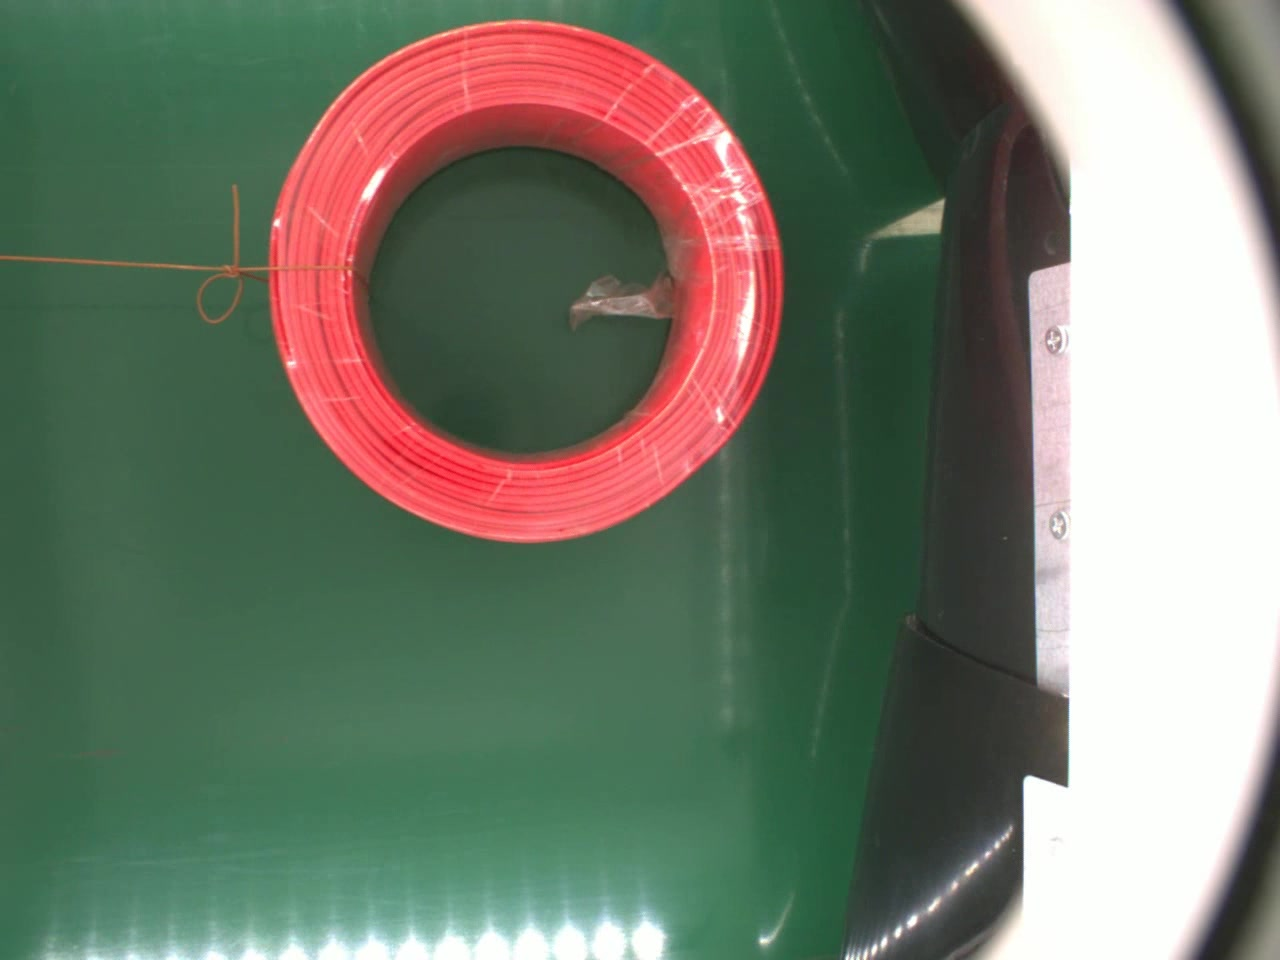red: (262, 16, 786, 547)
